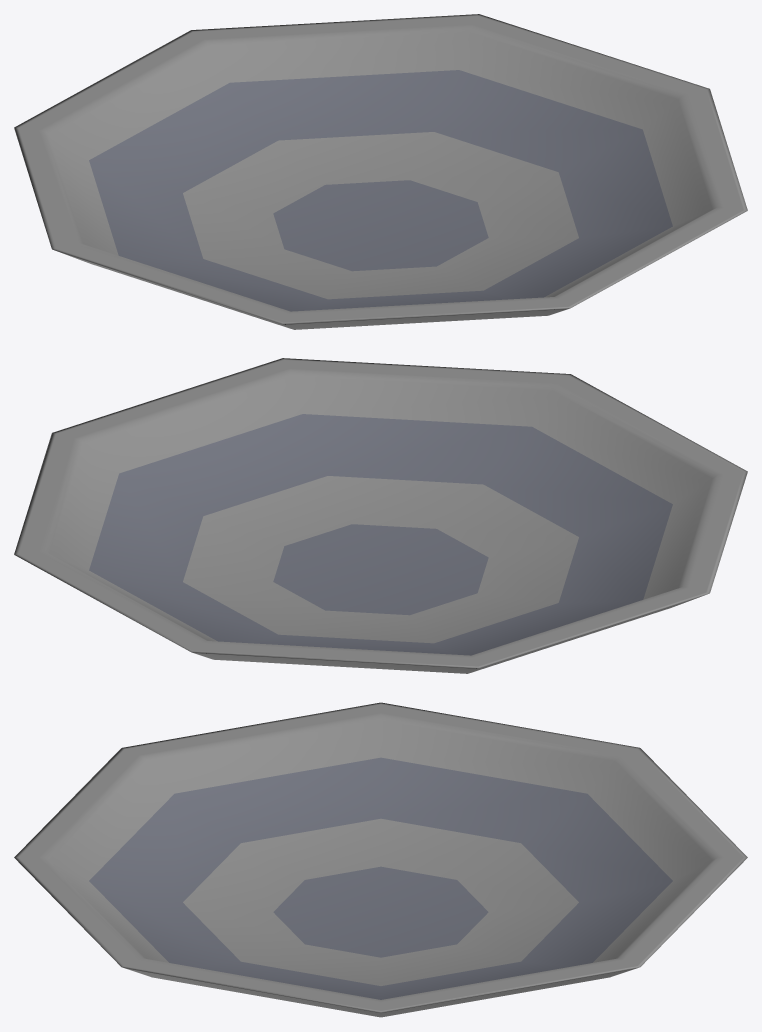
The model's file is Plate.fbx.
3 views of the same model, one above another, from view 1: azimuth 30°, elevation 25°; view 2: azimuth 150°, elevation 25°; view 3: azimuth 270°, elevation 25° (orthographic). The views are drawn at different scales.
Parts seen in each view (by area): view 1: Plate; view 2: Plate; view 3: Plate.
Boxes of the visible parts, left/top/right/bottom form: Plate: left=14, top=14, right=747, bottom=329; Plate: left=14, top=358, right=747, bottom=673; Plate: left=14, top=702, right=747, bottom=1017.
Size of the model in its own units: 53.22 by 5.03 by 53.22.
1 material, 1 textured.
